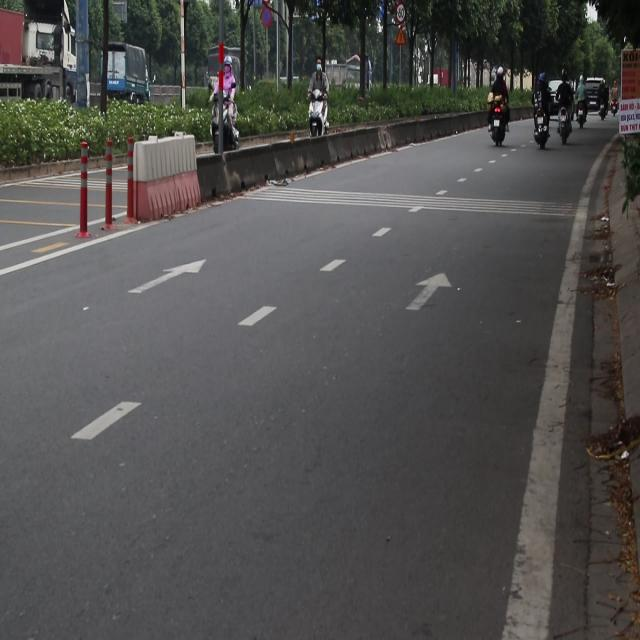car: (542, 73, 571, 111), (588, 70, 604, 103)
motorbike: (298, 80, 338, 156), (212, 101, 242, 163), (486, 84, 509, 148), (532, 114, 550, 156), (556, 110, 572, 146), (579, 104, 593, 137)
truck: (0, 0, 94, 109), (103, 46, 147, 112)
